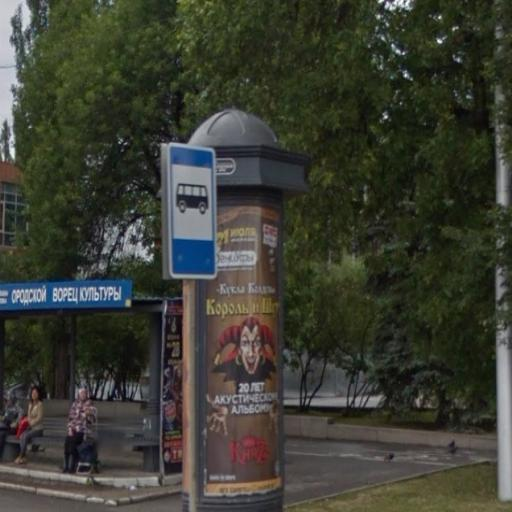traffic_sign: (167, 140, 221, 283)
